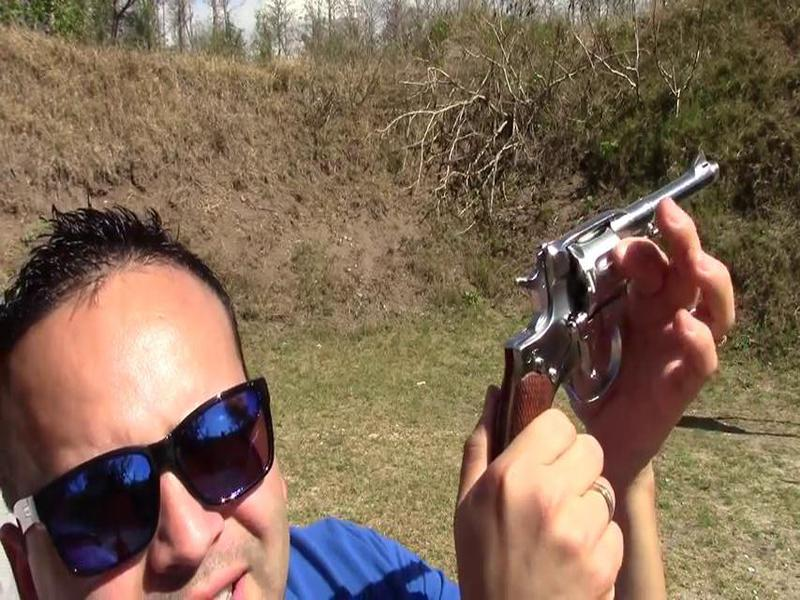Revolver: (440, 142, 728, 470)
